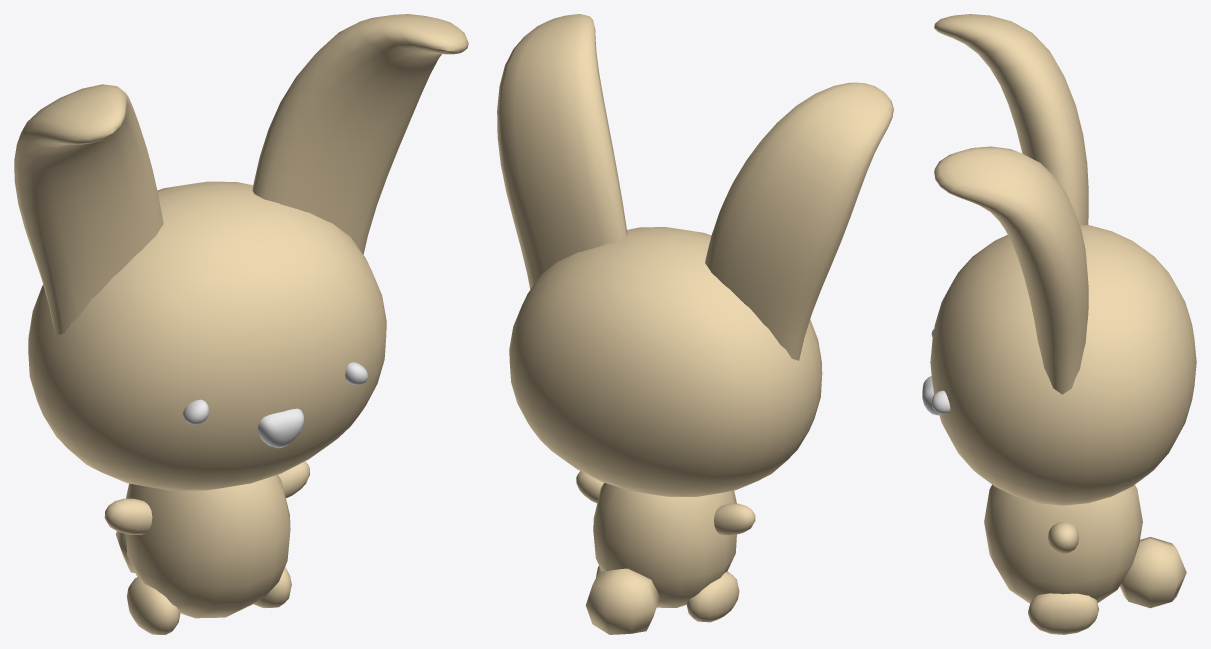
The model's file is plush_bunny01.fbx.
3 views of the same model, side by side, from view 1: azimuth 30°, elevation 25°; view 2: azimuth 150°, elevation 25°; view 3: azimuth 270°, elevation 25° (orthographic). The views are drawn at different scales.
Parts seen in each view (by area): view 1: bunny; view 2: bunny; view 3: bunny.
Part boxes in pixels (box(x1,y1,x2,y2)): bunny: box(14, 14, 468, 634); bunny: box(497, 14, 893, 634); bunny: box(922, 14, 1196, 634).
Size of the model in its own units: 36.2 by 49.16 by 23.35.
